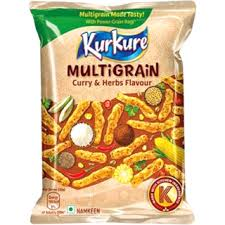kurkure: (81, 29, 149, 63)
plastic: (33, 1, 186, 225)
wrapper: (45, 13, 180, 196)
